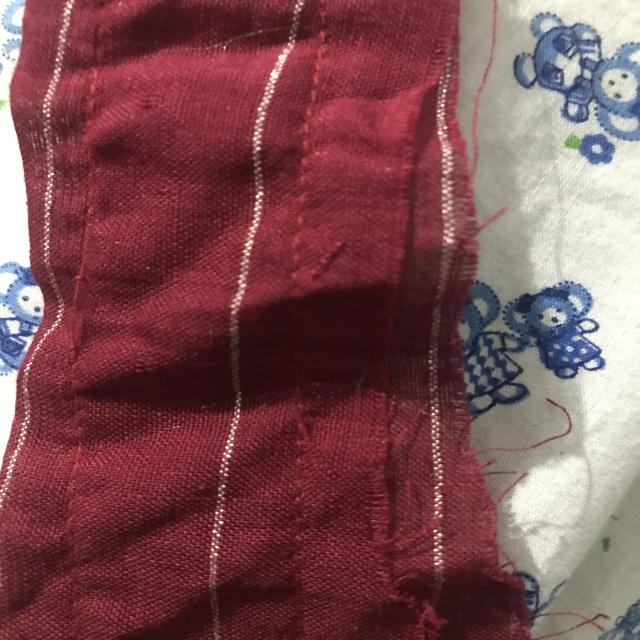skip: (58, 264, 100, 362)
